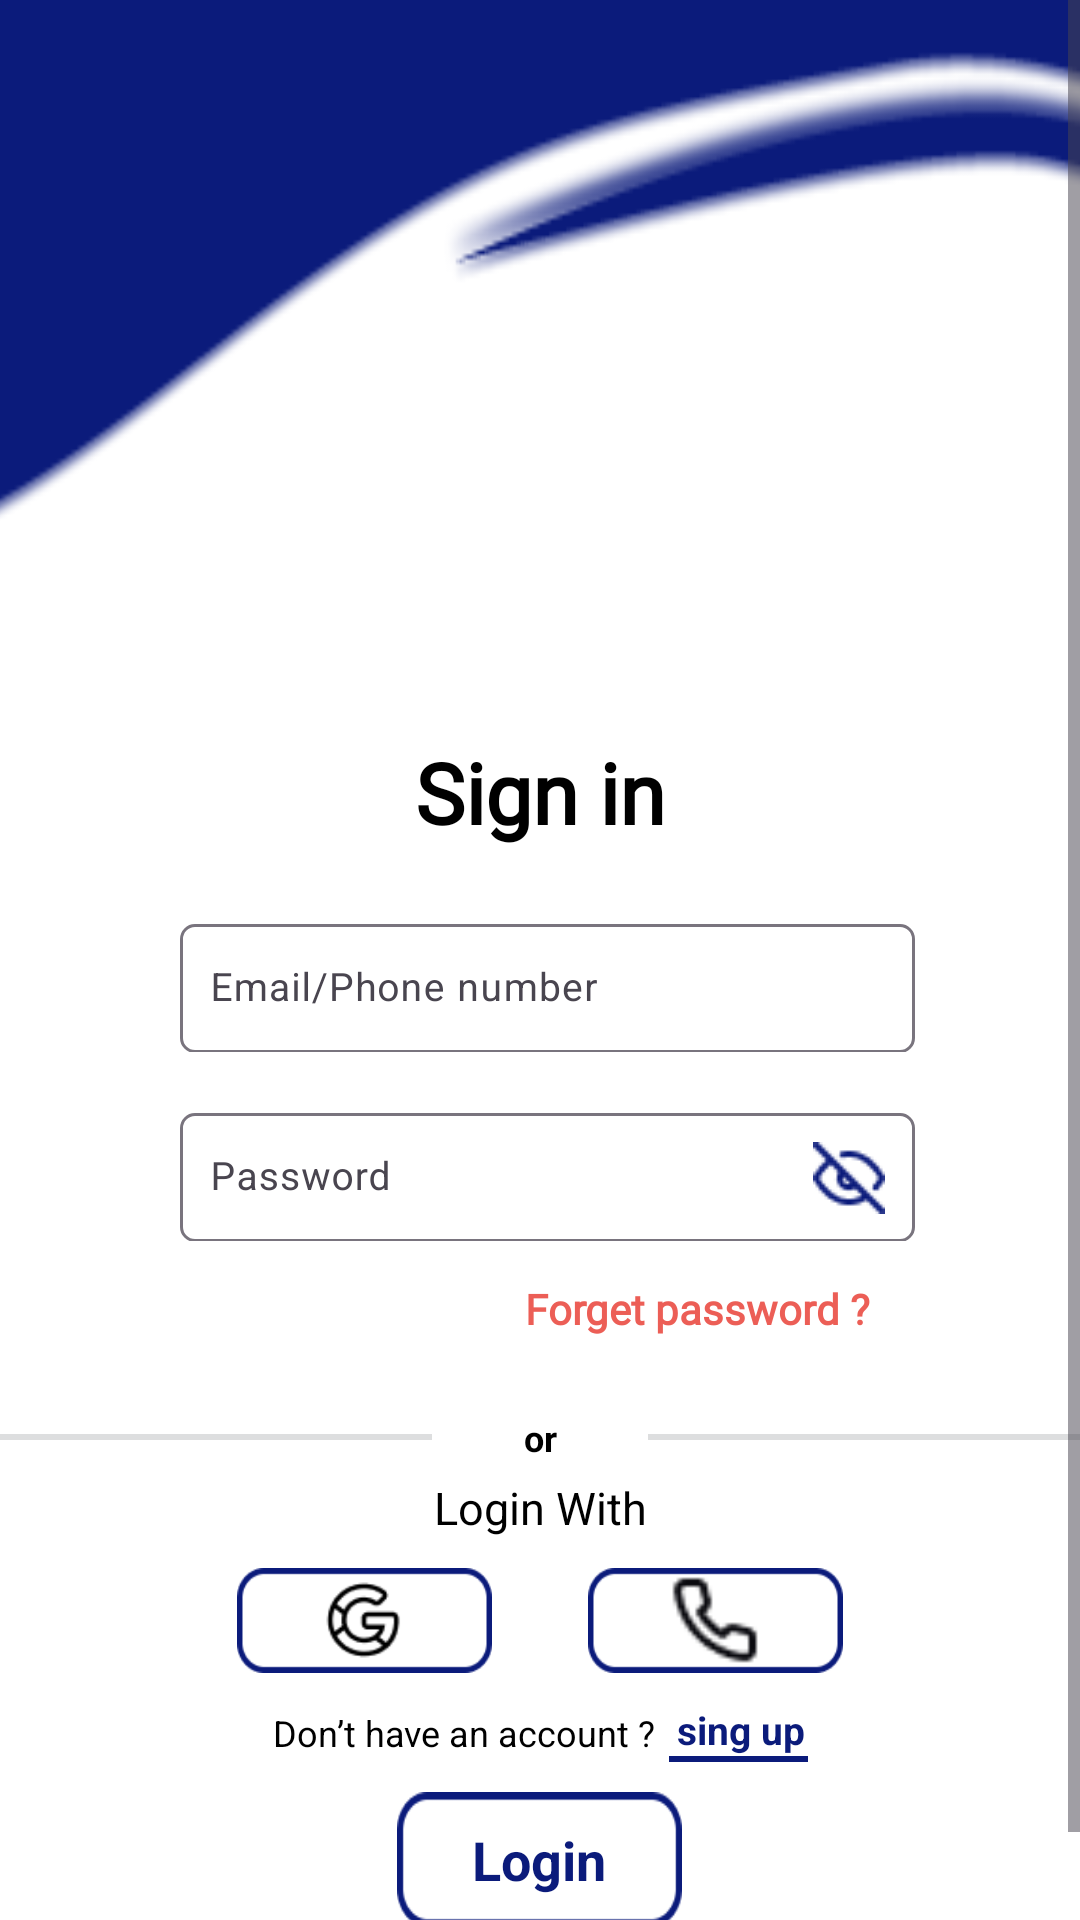

Icons on this 1080 × 1920 Android screen, each with its box as (x1, y1, x2, y2):
phone: (672, 1577, 758, 1663)
